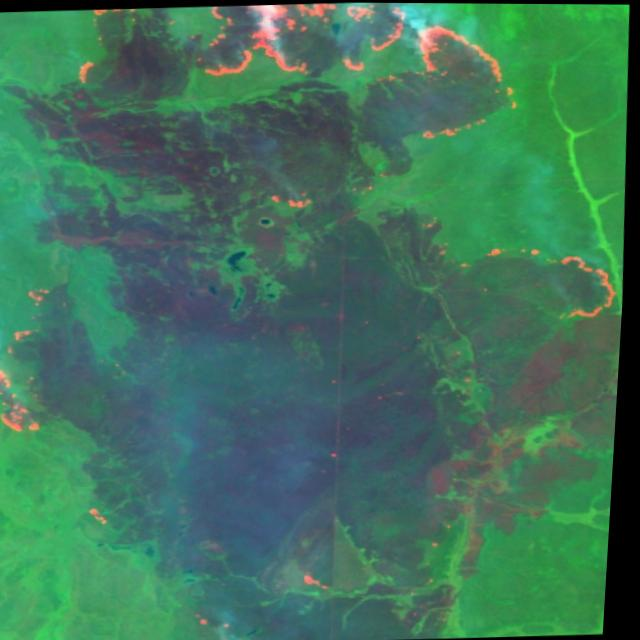fire: (63, 0, 528, 160), (471, 234, 629, 320), (0, 277, 67, 443)
